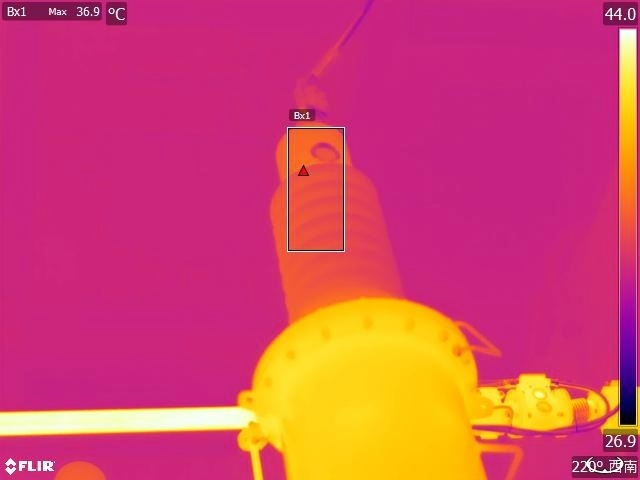tube: (257, 85, 505, 480)
